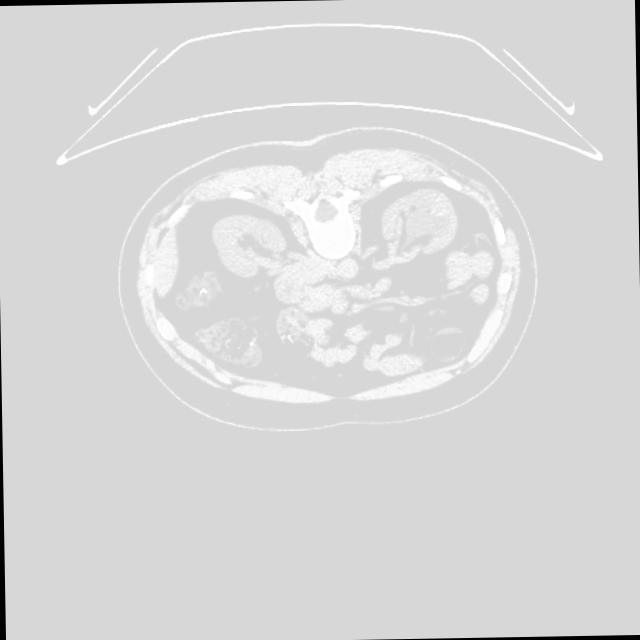cysts: (179, 200, 505, 403)
